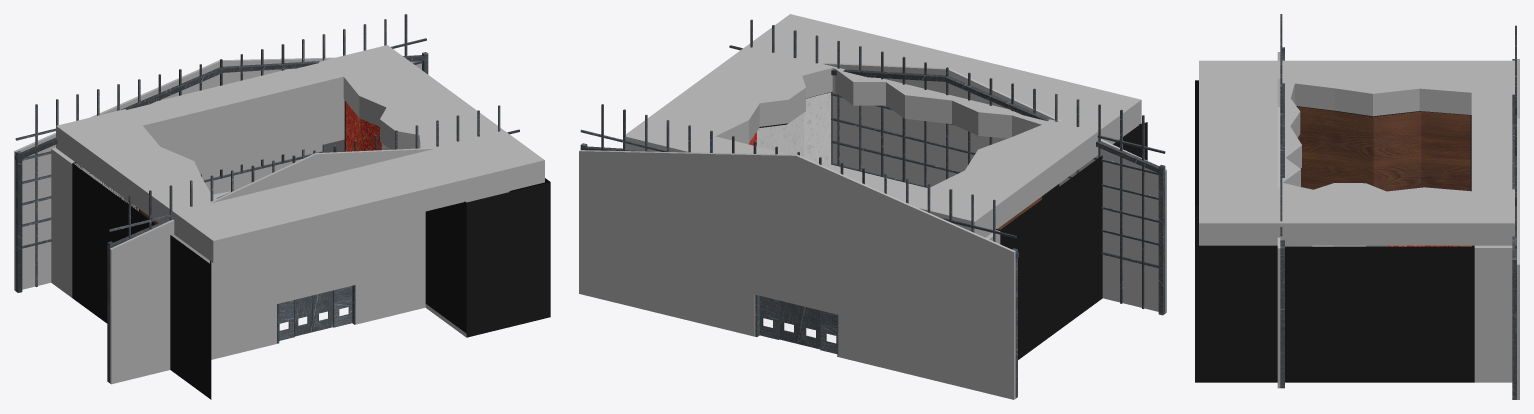
Rendered from uv fix.fbx.
3 renders of one model, left to right at view 1: azimuth 30°, elevation 25°; view 2: azimuth 150°, elevation 25°; view 3: azimuth 270°, elevation 25°, orthographic. The views are drawn at different scales.
Parts seen in each view (by area): view 1: Roof Pillar, entrance_back, Climber, entrance, Pillar; view 2: entrance, Roof Pillar, entrance_back, Climber; view 3: Climber, Roof Pillar, Pillar, entrance, entrance_back.
Boxes of the visible parts, <box> form: Roof Pillar: <box>56,45,544,263</box>; entrance_back: <box>107,105,519,384</box>; Climber: <box>72,100,550,399</box>; entrance: <box>14,14,428,292</box>; Pillar: <box>51,99,344,297</box>; entrance: <box>579,104,1018,399</box>; Roof Pillar: <box>626,14,1141,237</box>; entrance_back: <box>729,19,1166,315</box>; Climber: <box>748,92,1147,359</box>; Climber: <box>1195,80,1474,382</box>; Roof Pillar: <box>1199,60,1514,245</box>; Pillar: <box>1474,245,1512,382</box>; entrance: <box>1512,25,1519,399</box>; entrance_back: <box>1277,14,1284,388</box>.
Size of the model in its own units: 52.88 by 34.11 by 21.2.
